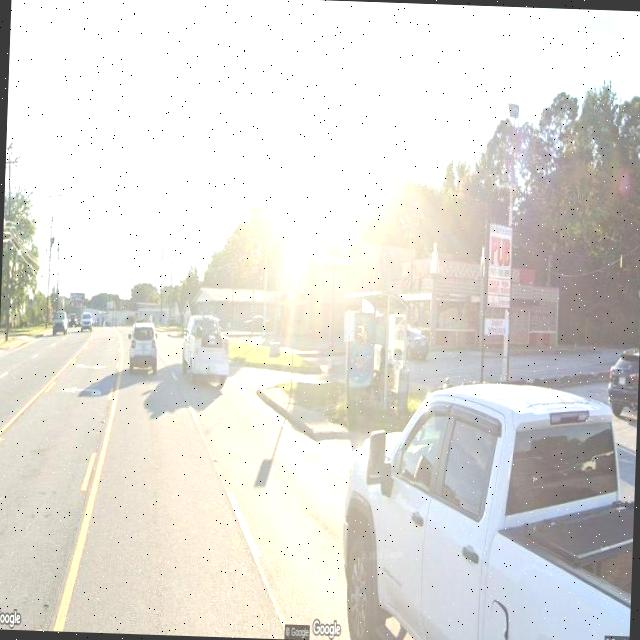seating: (372, 386, 392, 408)
shelter: (339, 291, 410, 415)
trash_can: (396, 368, 409, 413)
